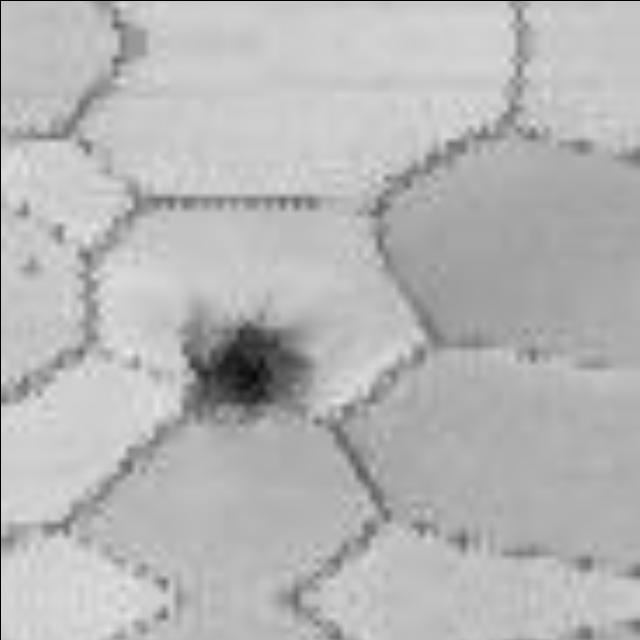good_void: (174, 308, 319, 437)
